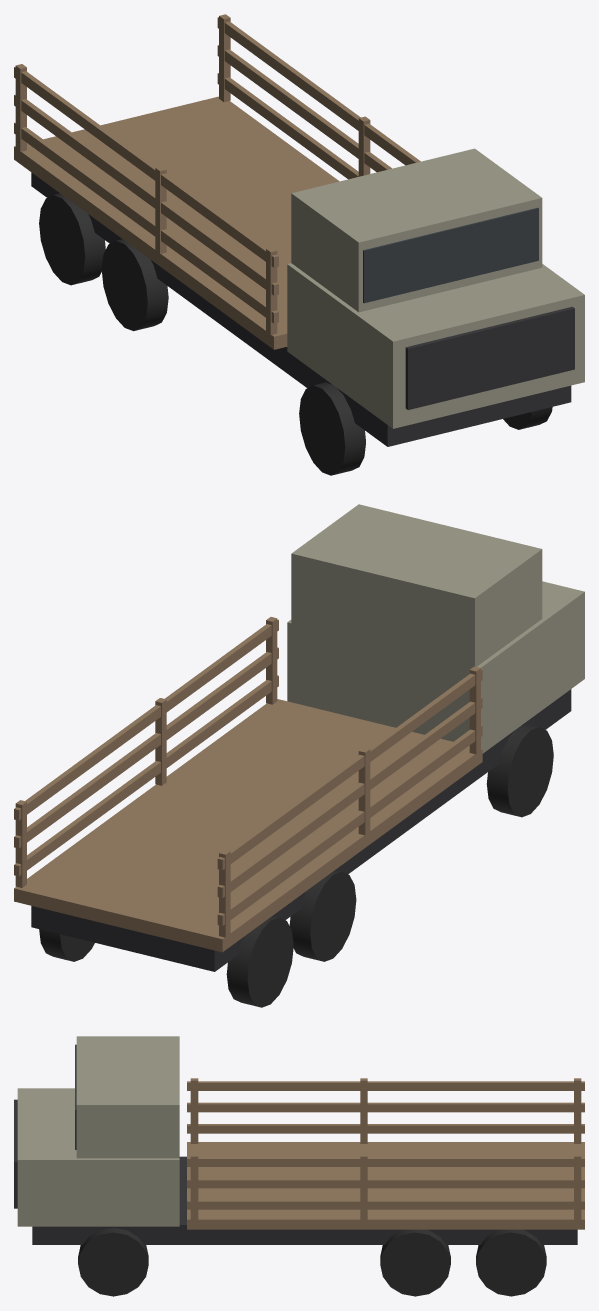
File: truck.glb
3 views of the same model, one above another, from view 1: azimuth 30°, elevation 25°; view 2: azimuth 150°, elevation 25°; view 3: azimuth 270°, elevation 25° (orthographic). The views are drawn at different scales.
Visible parts, largest first — view 1: truck; view 2: truck; view 3: truck.
Boxes of the visible parts, x1,y1,x2,y2 form: truck: (14, 14, 584, 475); truck: (14, 504, 584, 1007); truck: (14, 1036, 584, 1296).
Size of the model in its own units: 2.52 by 2.8 by 7.75.
